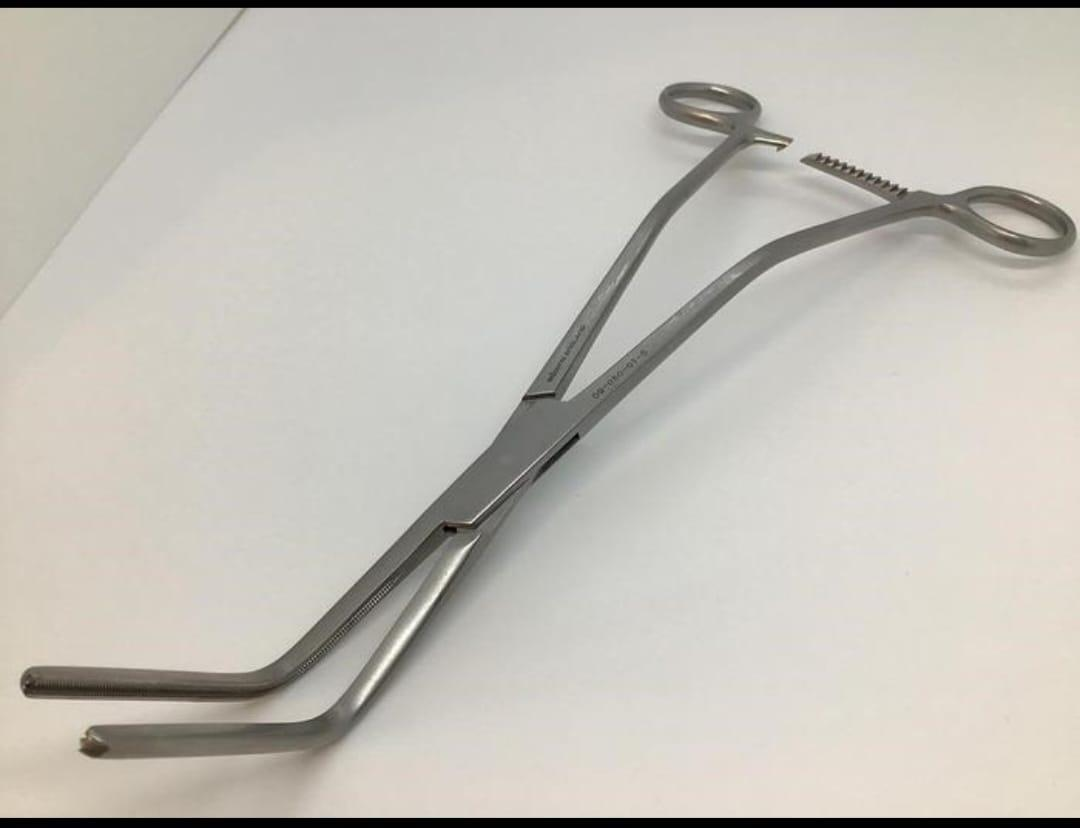Surgical blade: (14, 76, 1075, 766)
